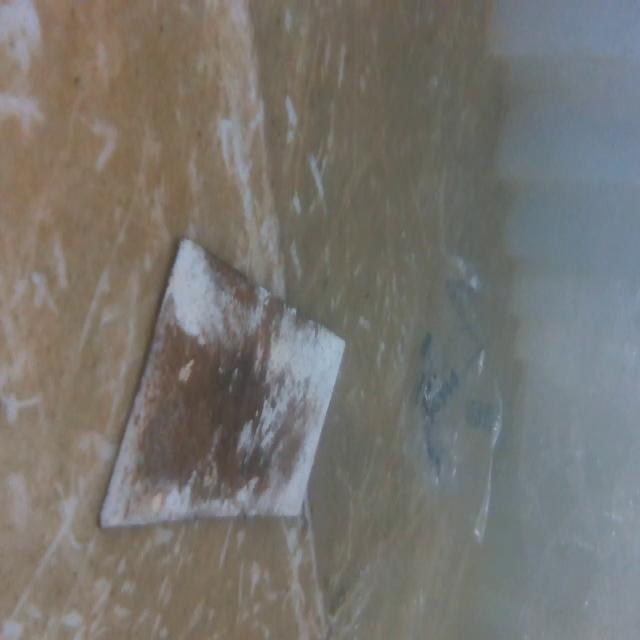plastic bags: (402, 262, 507, 548)
